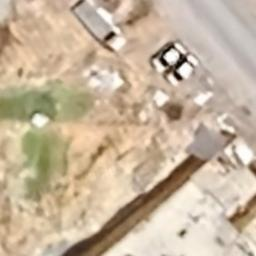sedan: (151, 40, 187, 74), (165, 54, 199, 86)
truck: (70, 0, 126, 52)
